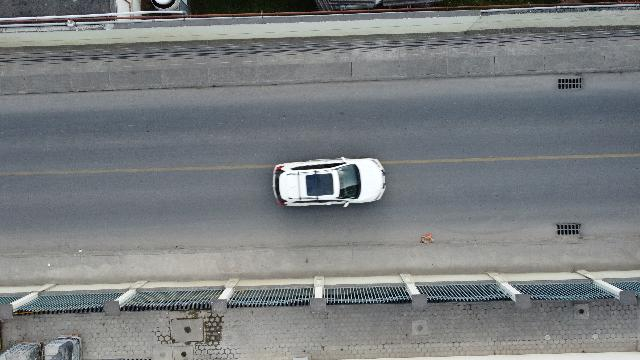Vehiculo: (272, 156, 386, 207)
